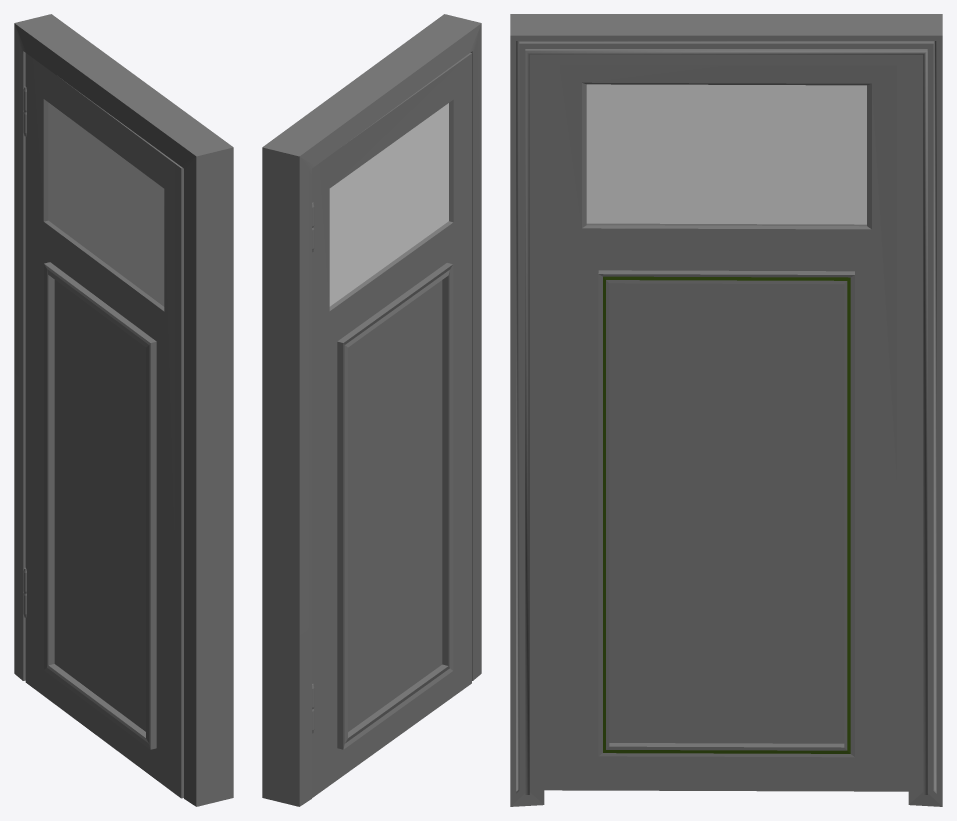
Rendered from Door.fbx.
3 renders of one model, left to right at view 1: azimuth 30°, elevation 25°; view 2: azimuth 150°, elevation 25°; view 3: azimuth 270°, elevation 25°, orthographic. The views are drawn at different scales.
Visible parts, largest first — view 1: door, frame; view 2: door, frame; view 3: door, frame.
Boxes of the visible parts, box(x1,y1,x2,y2) form: door: box(25, 53, 183, 798); frame: box(14, 14, 233, 806); door: box(312, 53, 471, 797); frame: box(262, 14, 481, 806); door: box(544, 65, 908, 791); frame: box(510, 14, 942, 806).
Size of the model in its own units: 39.46 by 500 by 254.
